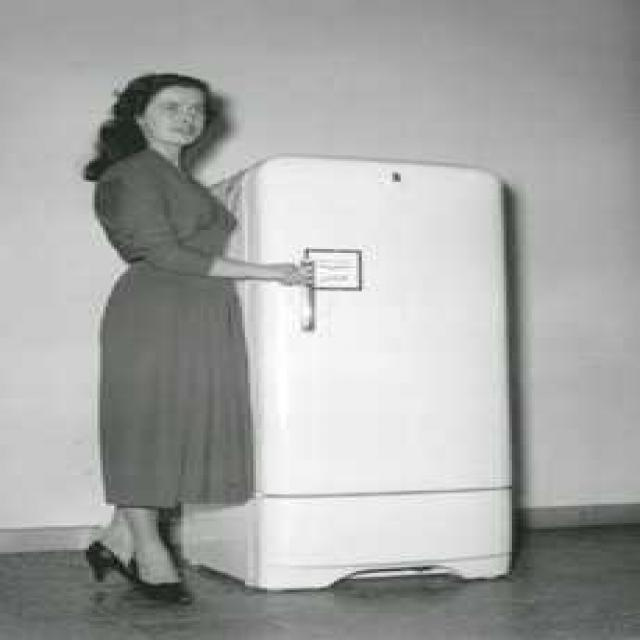refrigerator: (240, 155, 524, 558)
